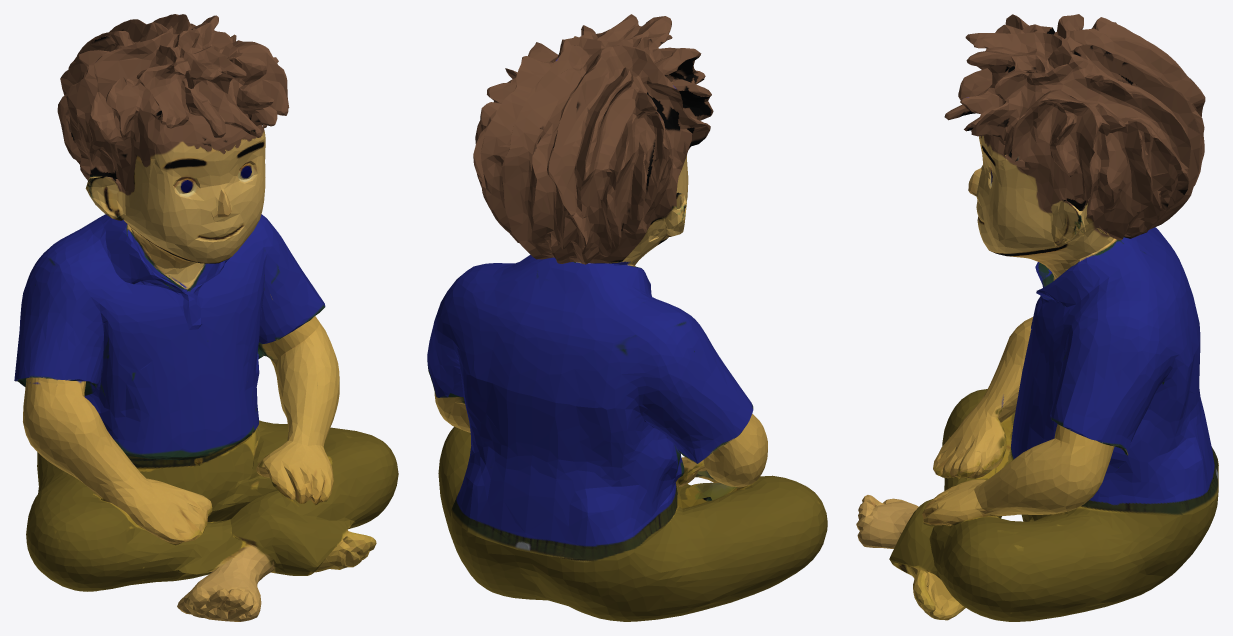
Rendered from viewer_2.glb.
3 renders of one model, left to right at view 1: azimuth 30°, elevation 25°; view 2: azimuth 150°, elevation 25°; view 3: azimuth 270°, elevation 25°, orthographic. The views are drawn at different scales.
Parts seen in each view (by area): view 1: world; view 2: world; view 3: world.
Boxes of the visible parts, x1,y1,x2,y2 form: world: (14, 14, 398, 621); world: (427, 14, 827, 621); world: (856, 14, 1218, 621).
Bounding box in the file's own units: 0.7159 × 1 × 0.6198.
Materials: 1 (1 with a texture image).
